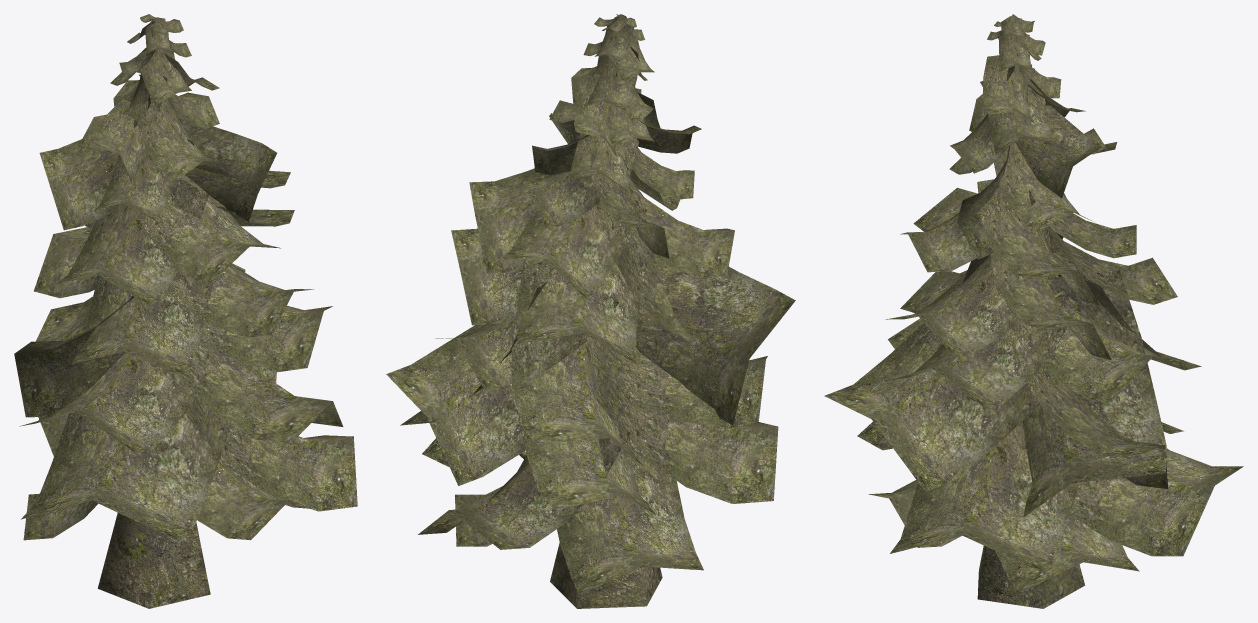
The picture shows the model from 3 angles, left to right: view 1: azimuth 30°, elevation 25°; view 2: azimuth 150°, elevation 25°; view 3: azimuth 270°, elevation 25°; orthographic projection.
Visible parts, largest first — view 1: lgt_plt_0003_ms_002_001, lgt_plt_0003_ms_001_001, lgt_plt_0003_ms_003_001; view 2: lgt_plt_0003_ms_002_001, lgt_plt_0003_ms_001_001, lgt_plt_0003_ms_003_001; view 3: lgt_plt_0003_ms_002_001, lgt_plt_0003_ms_001_001, lgt_plt_0003_ms_003_001.
Boxes of the visible parts, x1,y1,x2,y2 form: lgt_plt_0003_ms_002_001: (14, 14, 313, 541); lgt_plt_0003_ms_001_001: (23, 47, 357, 540); lgt_plt_0003_ms_003_001: (97, 21, 210, 608); lgt_plt_0003_ms_002_001: (386, 14, 795, 549); lgt_plt_0003_ms_001_001: (422, 37, 734, 595); lgt_plt_0003_ms_003_001: (519, 18, 662, 608); lgt_plt_0003_ms_002_001: (857, 14, 1243, 556); lgt_plt_0003_ms_001_001: (824, 35, 1183, 592); lgt_plt_0003_ms_003_001: (977, 21, 1085, 608).
Size of the model in its own units: 778 by 1273 by 855.
